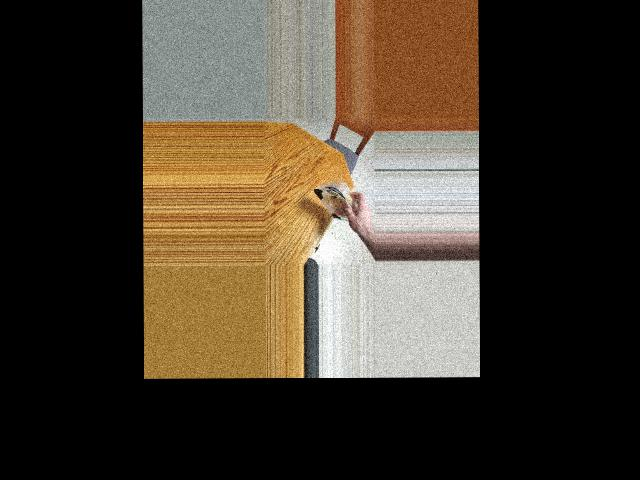cheese: (316, 176, 355, 234)
